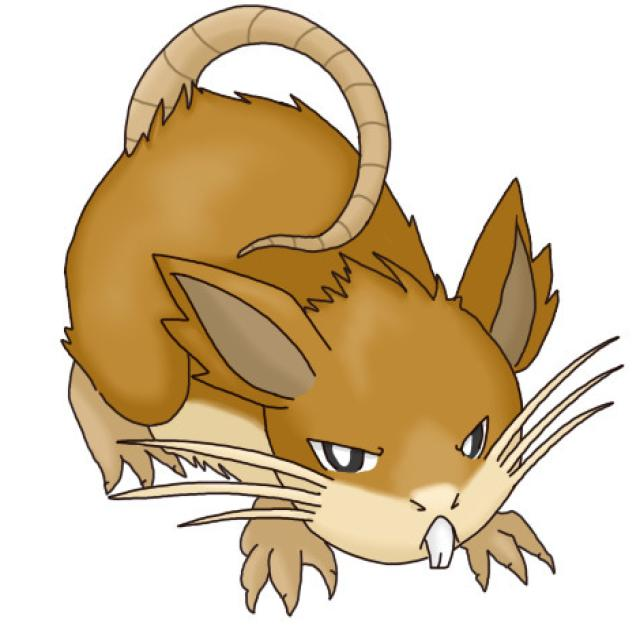Raticate: (96, 105, 553, 622)
